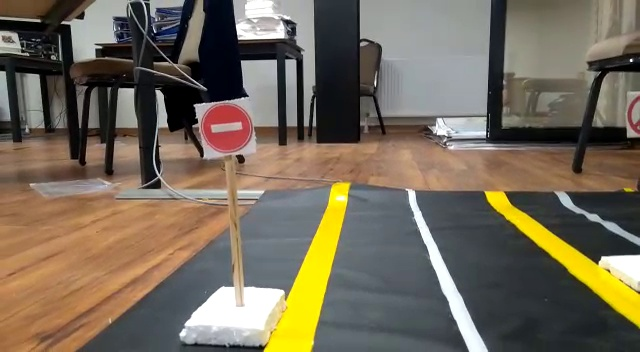girisi_olmayan_yol: (197, 97, 256, 155)
